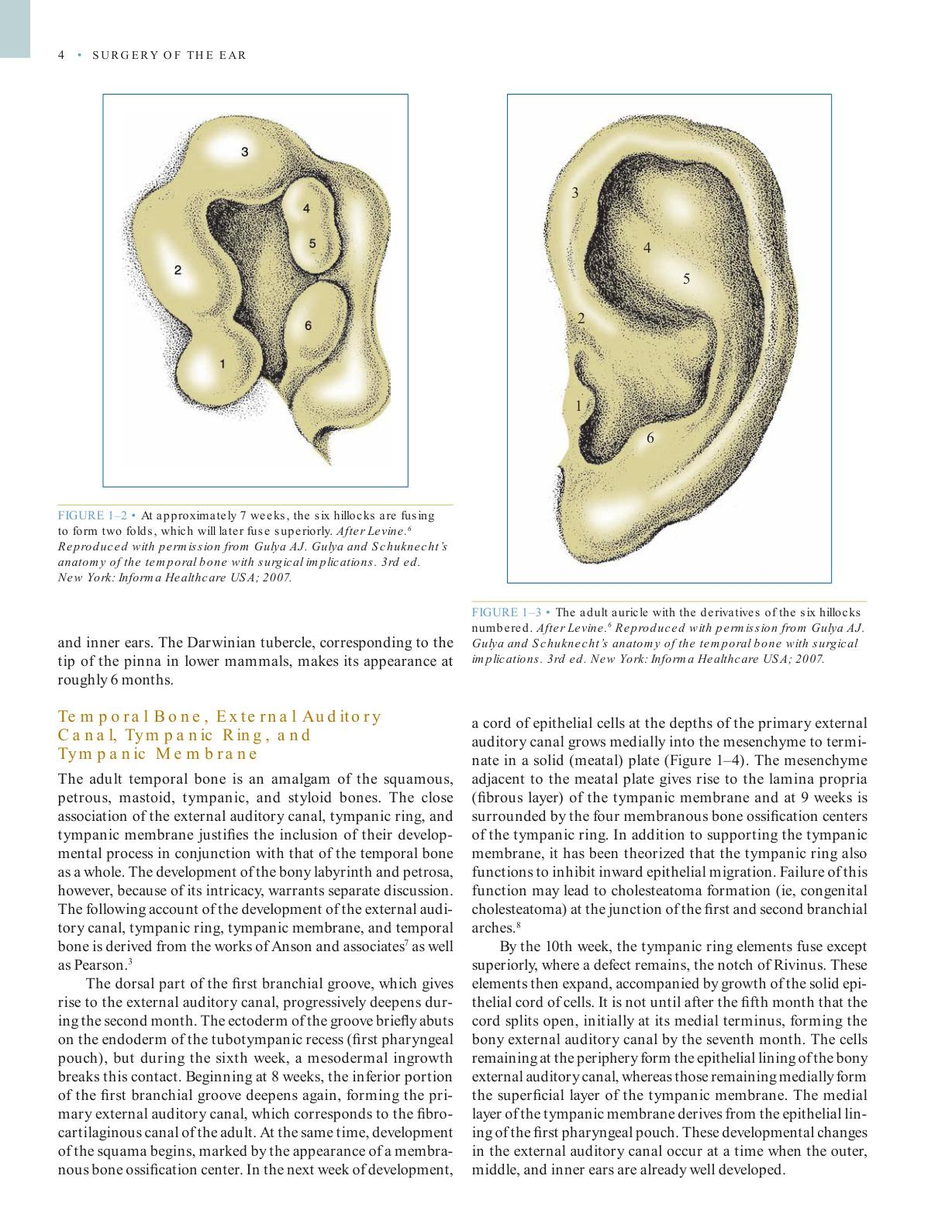caption: (55, 506, 450, 586), (469, 605, 867, 668)
header: (92, 49, 247, 61)
image: (512, 98, 823, 576), (109, 99, 403, 481)
section-heading: (56, 707, 383, 764)
text: (468, 713, 870, 1178), (54, 768, 455, 1180), (55, 633, 455, 690)
